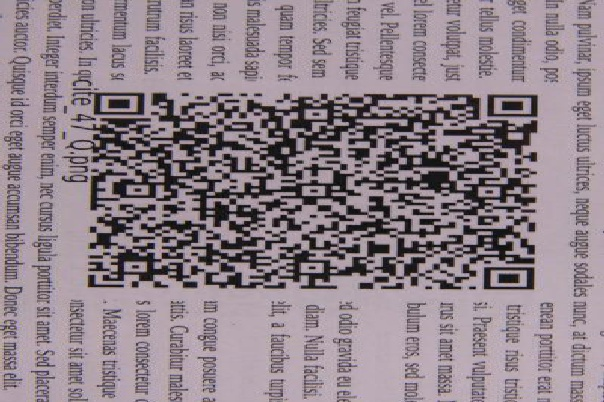code: (88, 92, 537, 290)
